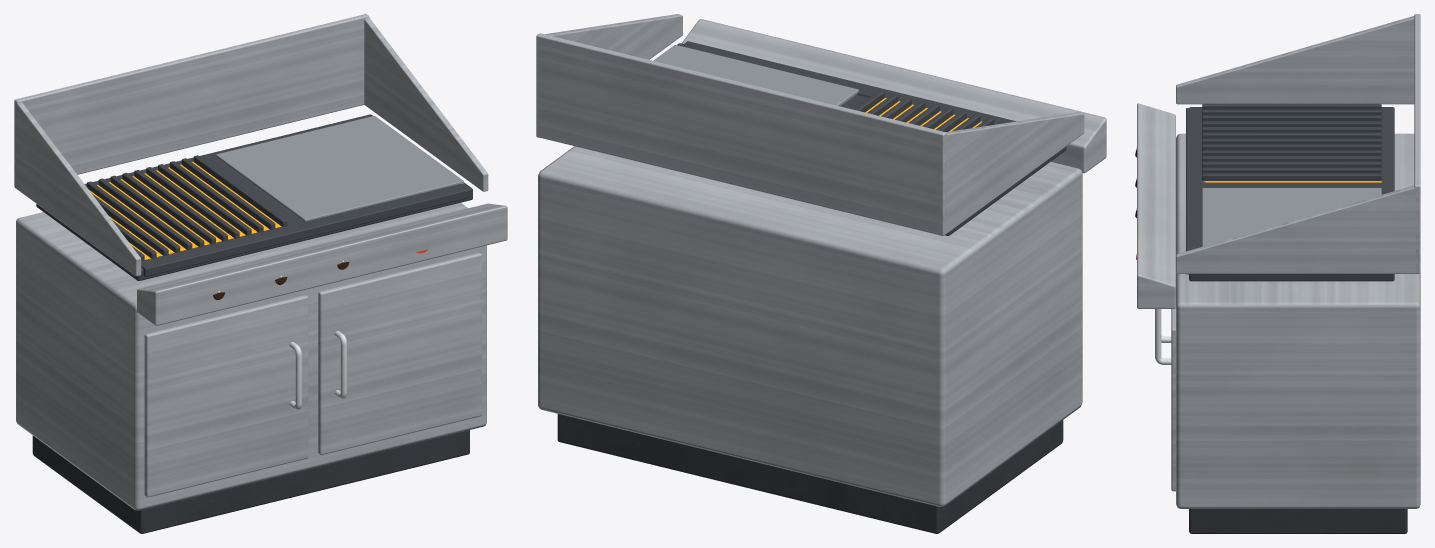
The model's file is Griddle.glb.
The picture shows the model from 3 angles, left to right: view 1: azimuth 30°, elevation 25°; view 2: azimuth 150°, elevation 25°; view 3: azimuth 270°, elevation 25°; orthographic projection. The views are drawn at different scales.
Parts seen in each view (by area): view 1: Griddle_Body, Griddle_Door1, Griddle_Door2; view 2: Griddle_Body; view 3: Griddle_Body, Griddle_Door2.
Part boxes in pixels (x1,y1,x2,y2): Griddle_Body: (14, 14, 507, 533); Griddle_Door1: (144, 295, 308, 497); Griddle_Door2: (318, 253, 481, 454); Griddle_Body: (536, 14, 1106, 533); Griddle_Body: (1137, 14, 1420, 533); Griddle_Door2: (1155, 308, 1175, 491).
Size of the model in its own units: 1.25 by 1.2 by 0.8752.
10 materials, 4 textured.
